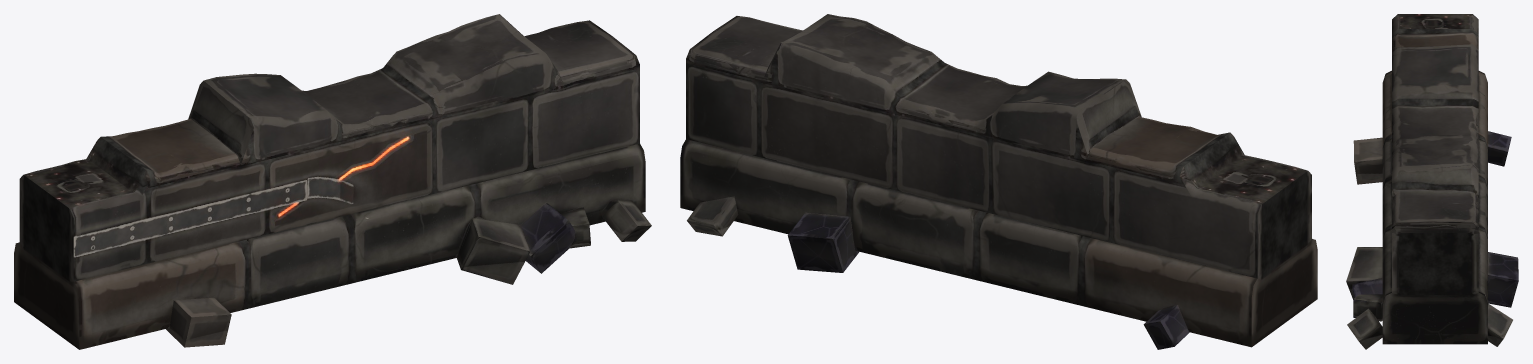
File: hellforge_wall_low.glb
The picture shows the model from 3 angles, left to right: view 1: azimuth 30°, elevation 25°; view 2: azimuth 150°, elevation 25°; view 3: azimuth 270°, elevation 25°; orthographic projection. The views are drawn at different scales.
Visible parts, largest first — view 1: hellforge_wall_low; view 2: hellforge_wall_low; view 3: hellforge_wall_low.
Part boxes in pixels (left/top/right/bottom): hellforge_wall_low: left=14, top=14, right=651, bottom=349; hellforge_wall_low: left=680, top=14, right=1317, bottom=349; hellforge_wall_low: left=1346, top=14, right=1518, bottom=349.
Bounding box in the file's own units: 4 × 1.41 × 1.31.
1 material, 1 textured.
